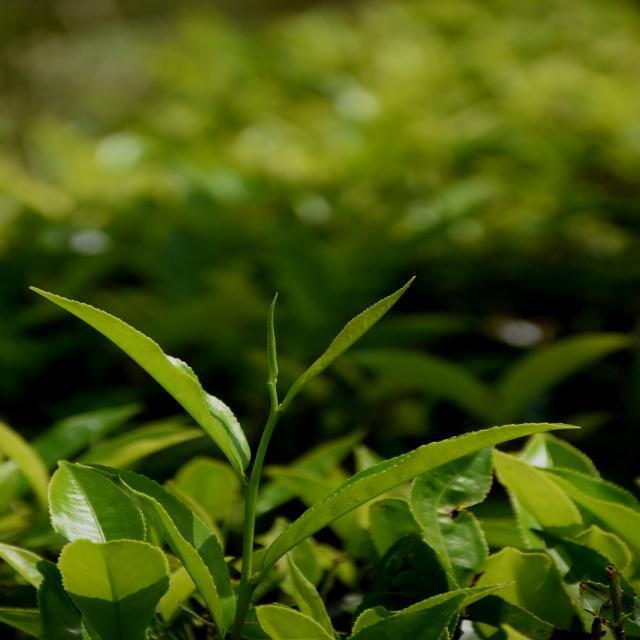Stem: (266, 411, 281, 426)
